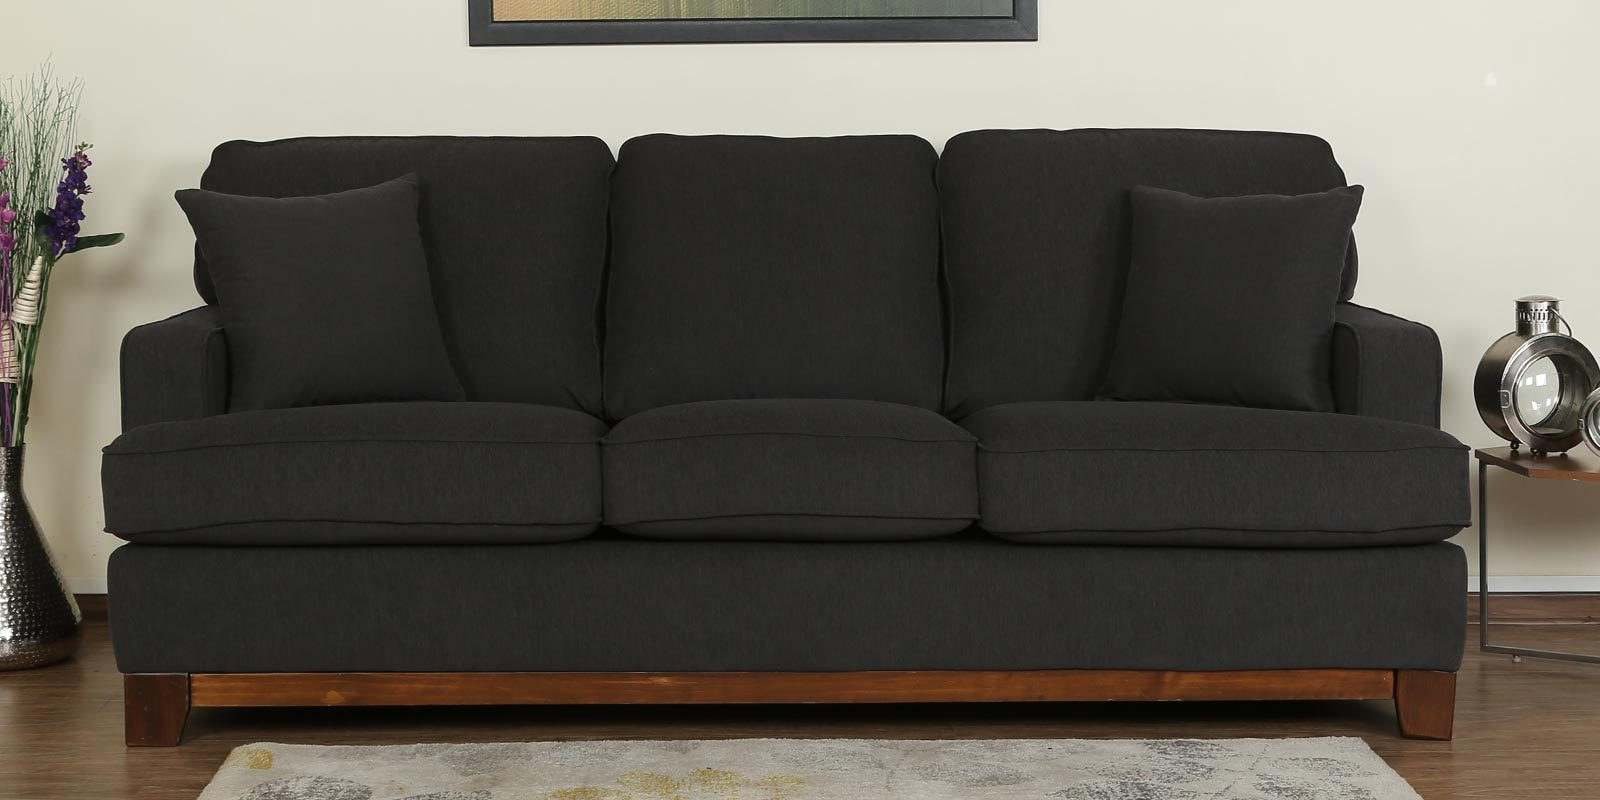Parana Three Seater Sofa in Charcoal Grey Color by CasaCraft: (100, 129, 1476, 746)
